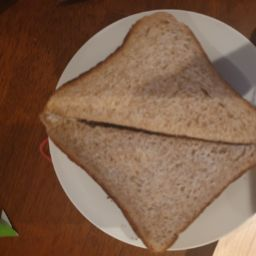Breads: (59, 10, 256, 253), (18, 76, 242, 205)
